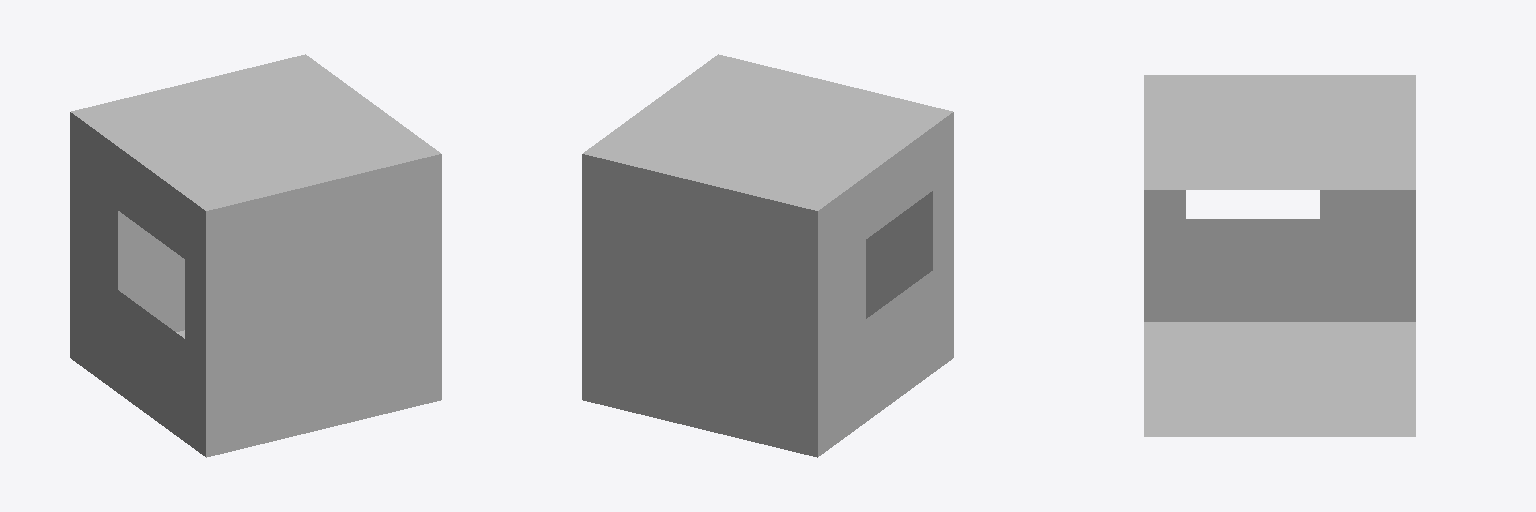
The model's file is room2.0.obj.
3 renders of one model, left to right at view 1: azimuth 30°, elevation 25°; view 2: azimuth 150°, elevation 25°; view 3: azimuth 270°, elevation 25°, orthographic.
Visible parts, largest first — view 1: Cube.001; view 2: Cube.001; view 3: Cube.001.
Boxes of the visible parts, <box> form: Cube.001: <box>70,54,441,457</box>; Cube.001: <box>582,54,953,457</box>; Cube.001: <box>1144,75,1415,436</box>.
Size of the model in its own units: 1 by 1 by 1.